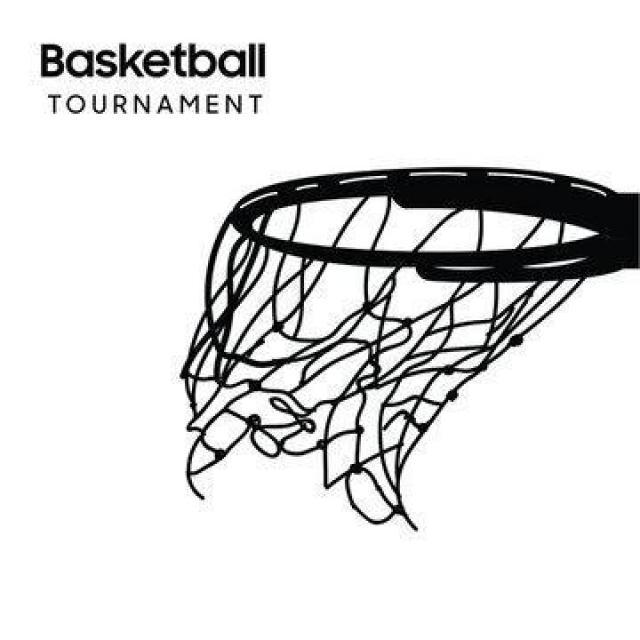hoop: (180, 165, 616, 530)
